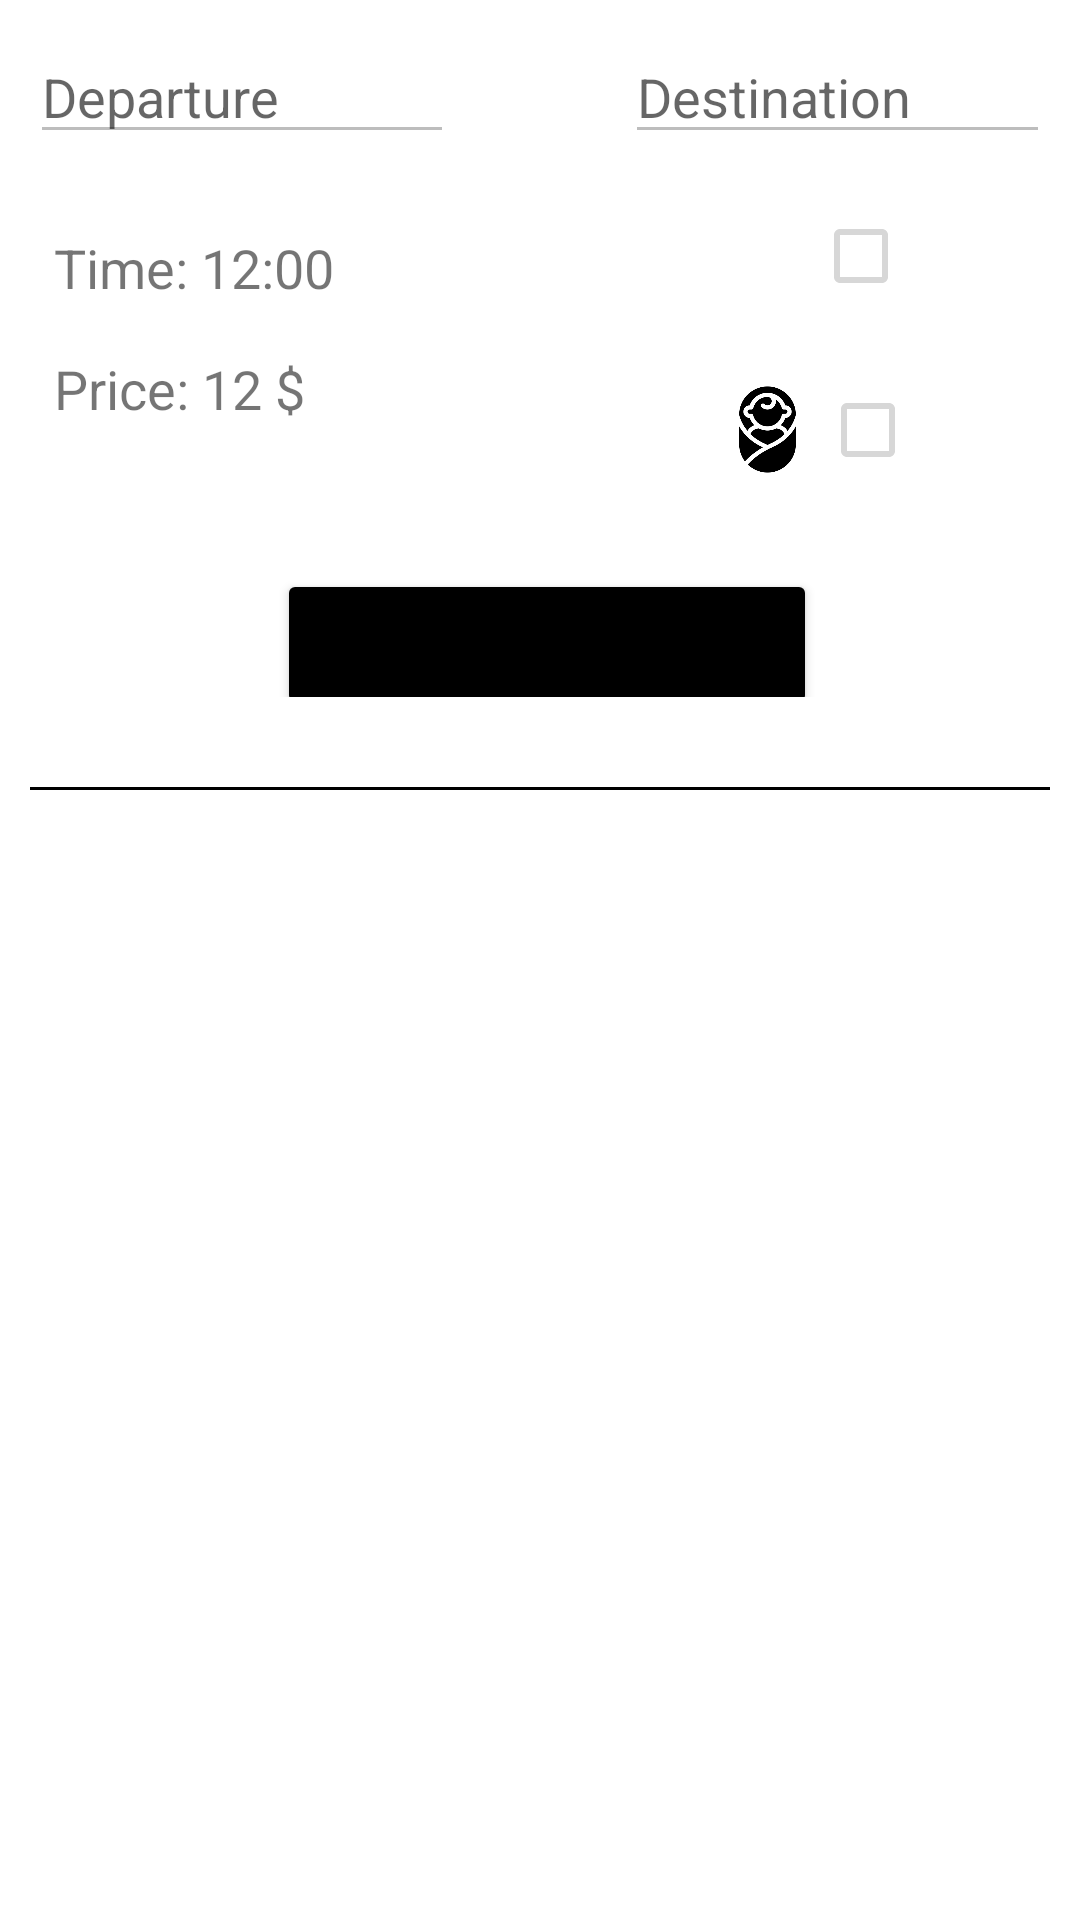

Icons on this 1080×1920 Android screen, each with its box as bbox(x1, y1, x2, y2):
baby: bbox(739, 386, 796, 473)
